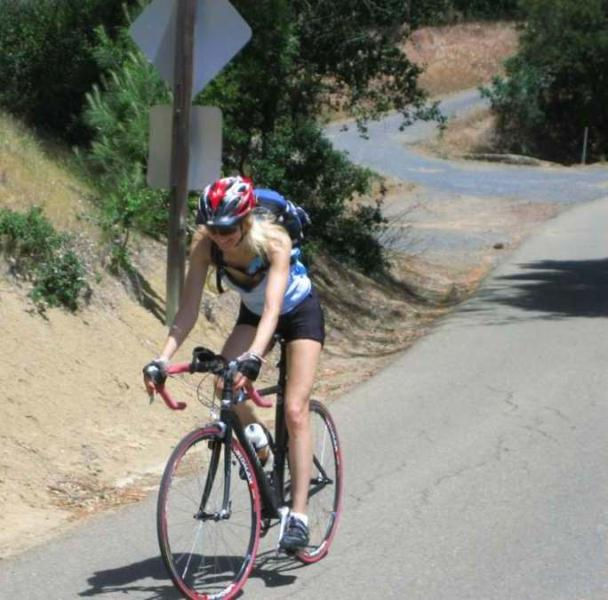person: (144, 175, 326, 547)
